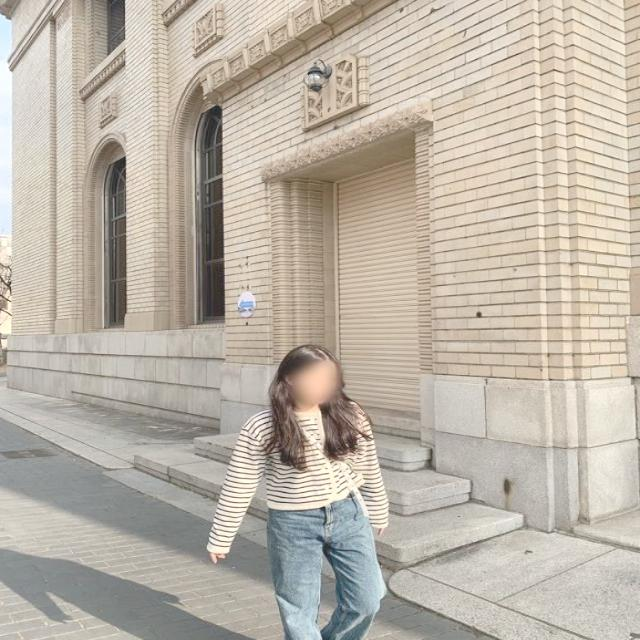cardigan: (204, 403, 390, 558)
denimpants: (268, 488, 386, 640)
